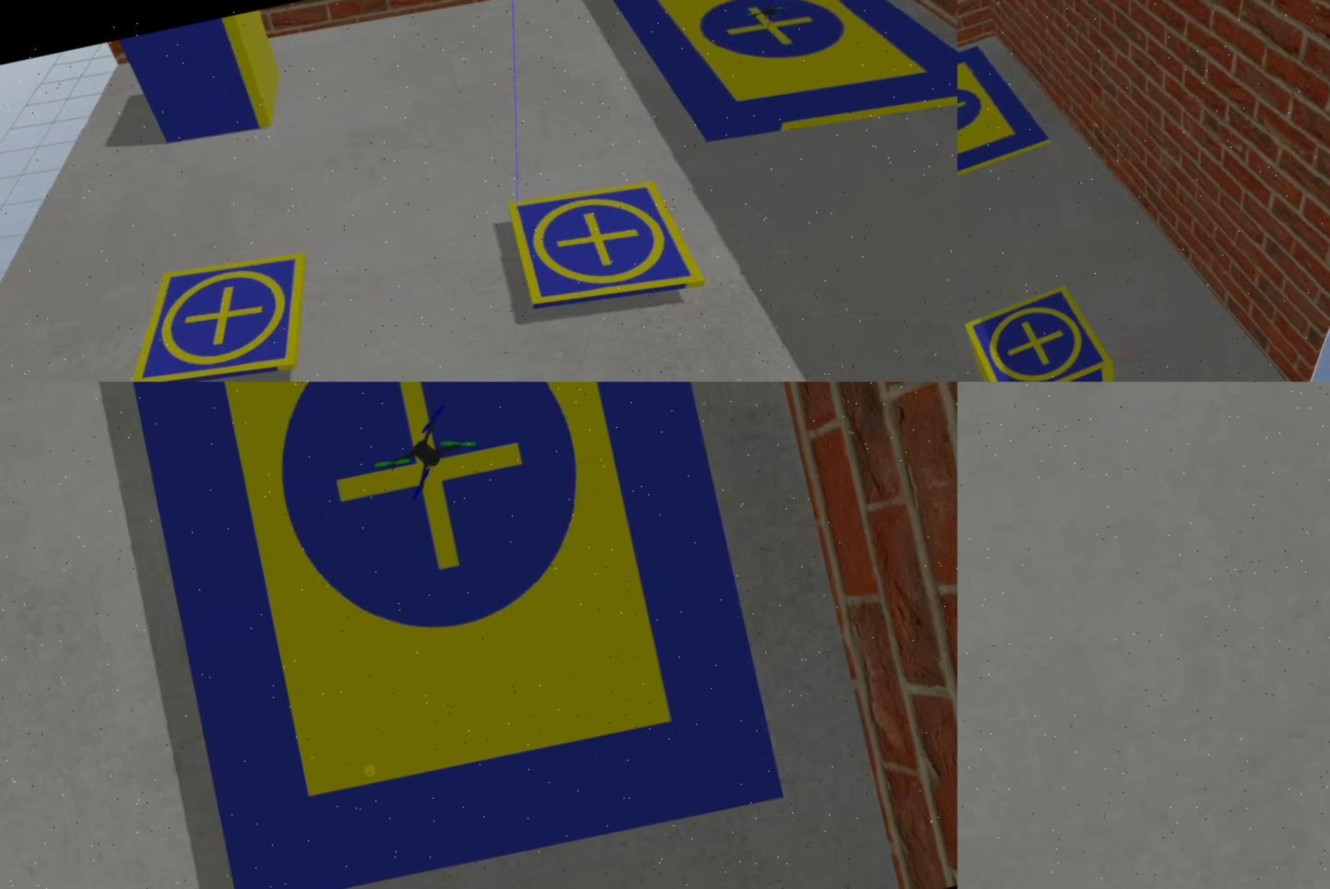large_base: (114, 382, 786, 889), (600, 1, 958, 173), (958, 41, 1053, 194)
small_base: (501, 165, 707, 326), (111, 245, 329, 382), (959, 277, 1123, 382)
